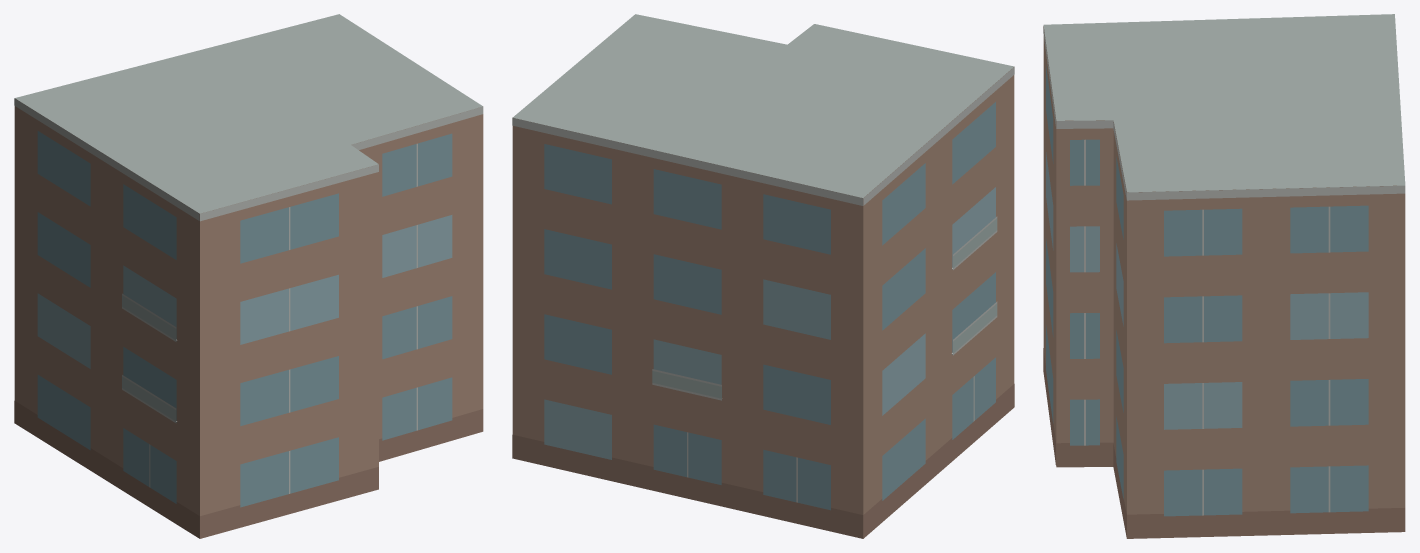
Rendered from survey-upis-32636945.glb.
The picture shows the model from 3 angles, left to right: view 1: azimuth 30°, elevation 25°; view 2: azimuth 150°, elevation 25°; view 3: azimuth 270°, elevation 25°; orthographic projection. The views are drawn at different scales.
Parts seen in each view (by area): view 1: survey-upis-32636945.tmp; view 2: survey-upis-32636945.tmp; view 3: survey-upis-32636945.tmp.
Part boxes in pixels (box(x1,y1,x2,y2)): survey-upis-32636945.tmp: box(14, 14, 483, 538); survey-upis-32636945.tmp: box(512, 14, 1014, 538); survey-upis-32636945.tmp: box(1043, 14, 1405, 538).
Size of the model in its own units: 11.49 by 10.4 by 9.86.
